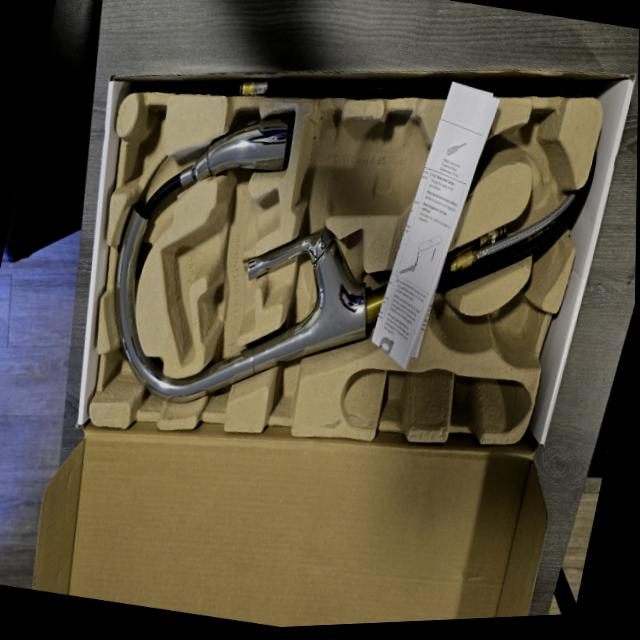1o: (115, 114, 581, 403)
2m: (162, 187, 280, 362)
3m: (294, 113, 447, 217)
4m: (342, 368, 531, 430)
5m: (490, 297, 539, 356)
6m: (521, 107, 563, 192)
7m: (448, 117, 488, 195)
8: (371, 77, 501, 368)
